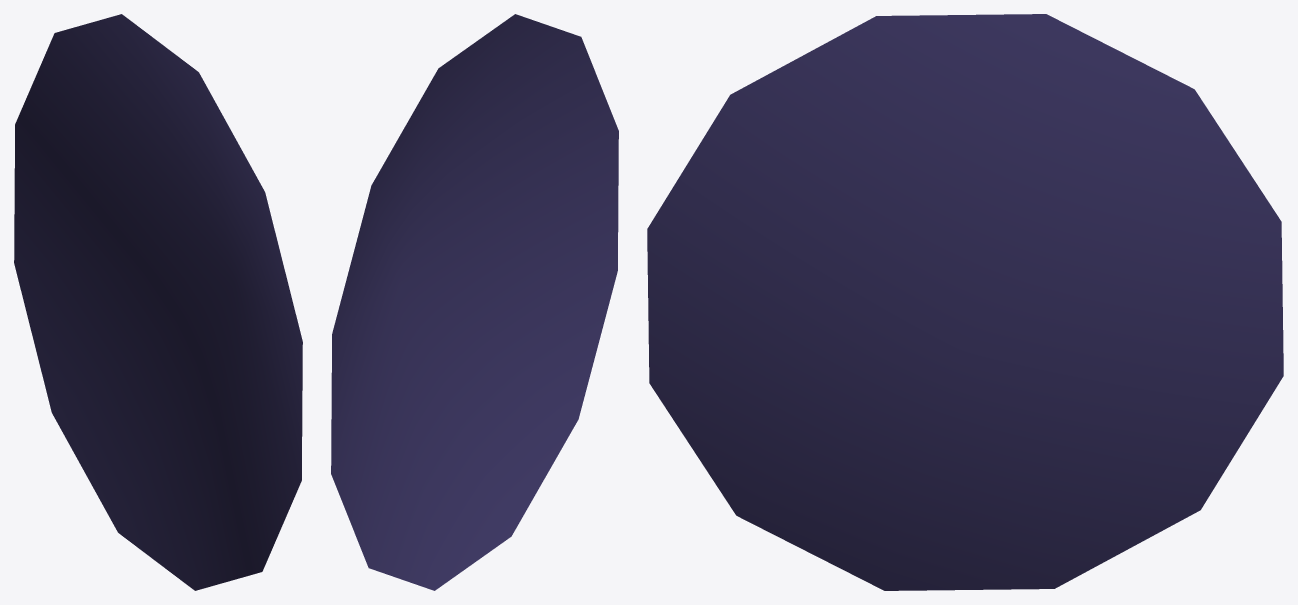
File: Sight_11_Glass.fbx
3 renders of one model, left to right at view 1: azimuth 30°, elevation 25°; view 2: azimuth 150°, elevation 25°; view 3: azimuth 270°, elevation 25°, orthographic. The views are drawn at different scales.
Visible parts, largest first — view 1: Sight_11_Glass; view 2: Sight_11_Glass; view 3: Sight_11_Glass.
Part boxes in pixels (x1=…): Sight_11_Glass: x1=14, y1=14, x2=302, y2=590; Sight_11_Glass: x1=331, y1=14, x2=618, y2=590; Sight_11_Glass: x1=647, y1=14, x2=1283, y2=590.
Bounding box in the file's own units: 0.7209 × 4.77 × 4.77.
